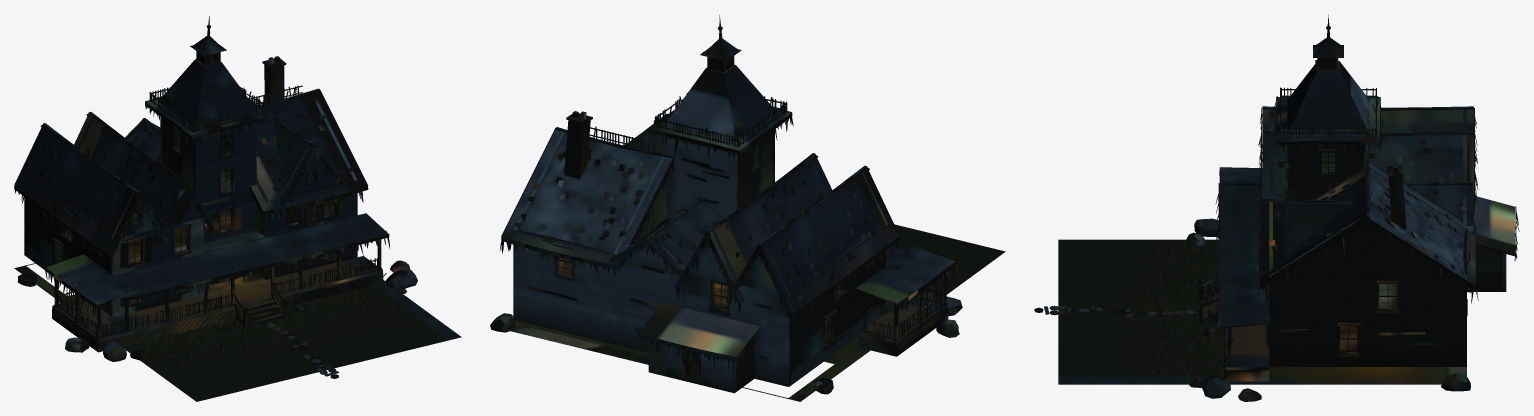
The model's file is house_exterior.glb.
3 views of the same model, side by side, from view 1: azimuth 30°, elevation 25°; view 2: azimuth 150°, elevation 25°; view 3: azimuth 270°, elevation 25° (orthographic). The views are drawn at different scales.
Parts seen in each view (by area): view 1: CHUNK_house_exterior; view 2: CHUNK_house_exterior; view 3: CHUNK_house_exterior.
Part boxes in pixels (x1=…): CHUNK_house_exterior: x1=14, y1=16, x2=461, y2=401; CHUNK_house_exterior: x1=490, y1=15, x2=1005, y2=401; CHUNK_house_exterior: x1=1034, y1=14, x2=1519, y2=401.
Bounding box in the file's own units: 33.48 × 25.18 × 36.81.
1 material, 1 textured.
